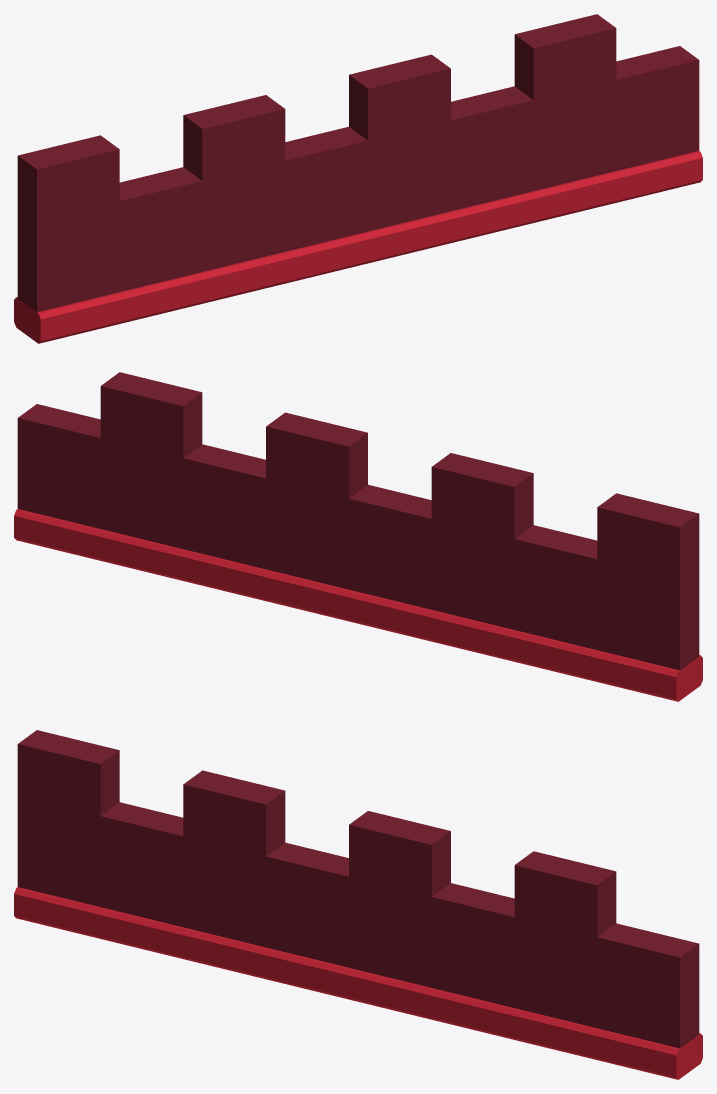
Rendered from wall_top_001_msh.fbx.
3 views of the same model, one above another, from view 1: azimuth 30°, elevation 25°; view 2: azimuth 150°, elevation 25°; view 3: azimuth 330°, elevation 25° (orthographic).
Visible parts, largest first — view 1: wall_top_001_msh; view 2: wall_top_001_msh; view 3: wall_top_001_msh.
Boxes of the visible parts, bbox=[...] form: wall_top_001_msh: bbox=[14, 14, 702, 343]; wall_top_001_msh: bbox=[14, 372, 702, 701]; wall_top_001_msh: bbox=[14, 730, 702, 1079].
Bounding box in the file's own units: 400 × 100 × 28.
